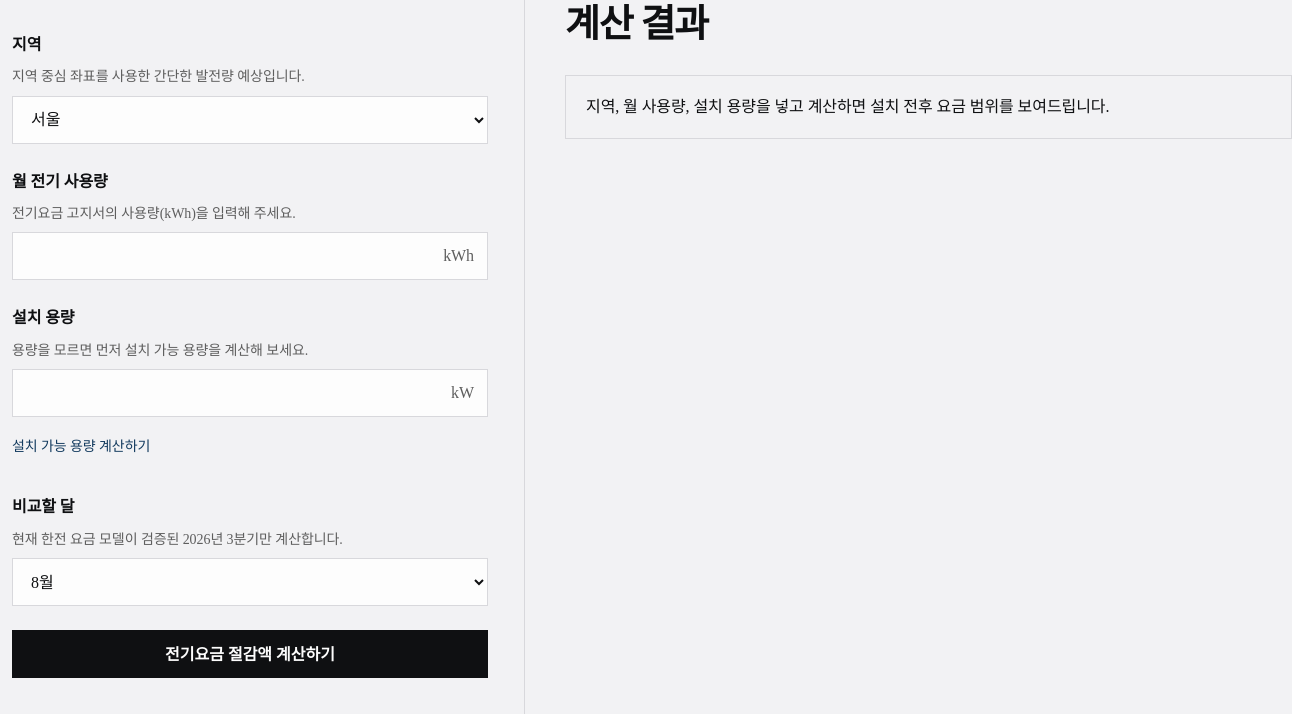
BillSavingsCalculator › shows a clear validation error before making a request
The image size is (1292, 714).
(page scrolled)
Click the button "전기요금 절감액 계산하기" at (250, 654), box x1=12 y1=630 x2=488 y2=678
(page scrolled)
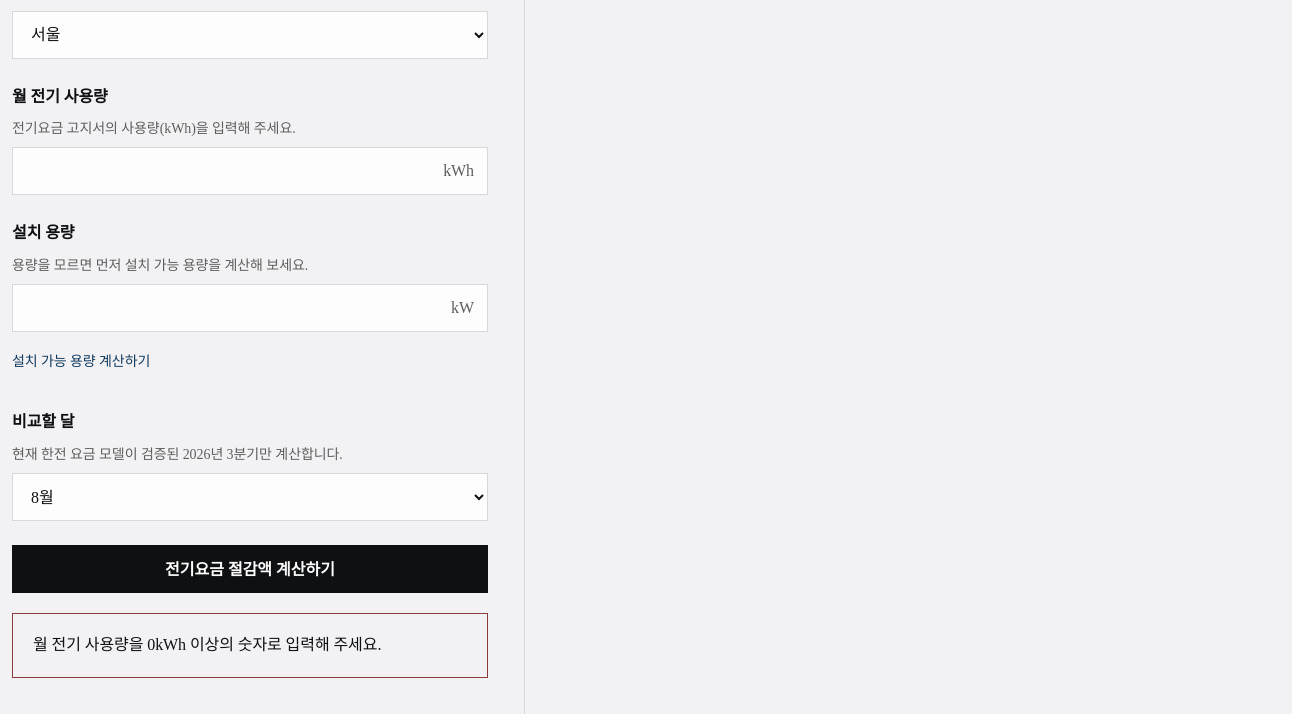
Result: the message reads "월 전기 사용량을 0kWh 이상의 숫자로 입력해 주세요." at x1=33 y1=636 x2=381 y2=653
